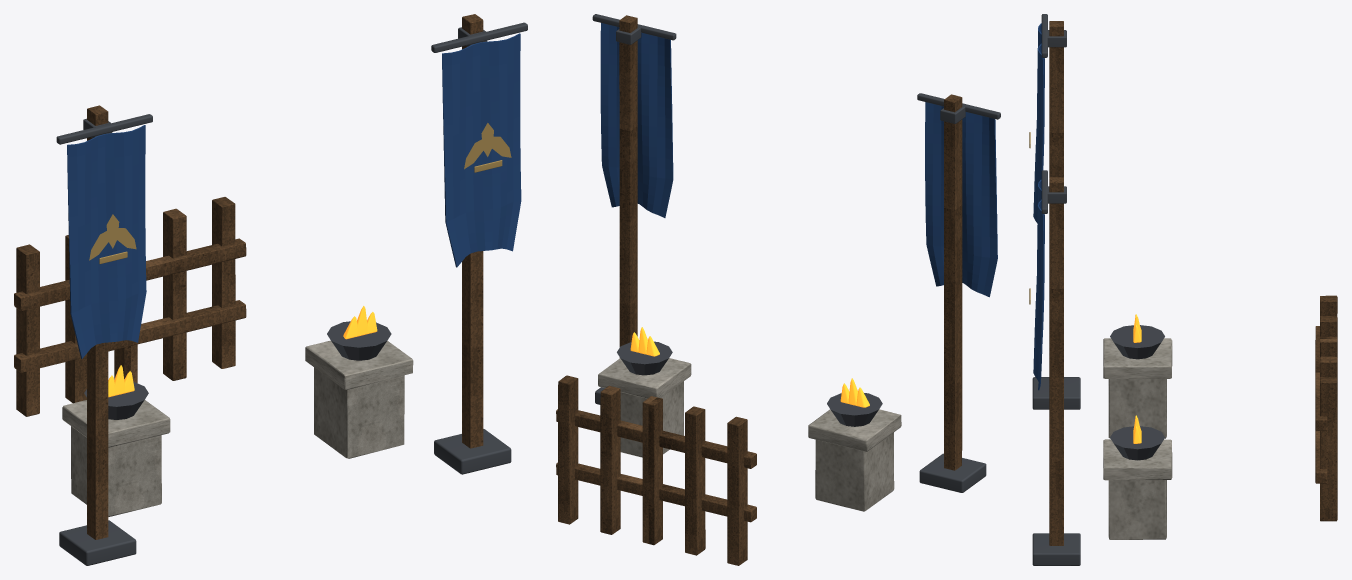
The model's file is defensive_props-LOD2.glb.
3 views of the same model, side by side, from view 1: azimuth 30°, elevation 25°; view 2: azimuth 150°, elevation 25°; view 3: azimuth 270°, elevation 25° (orthographic). The views are drawn at different scales.
Visible parts, largest first — view 1: V3 complete props / Royal blue Valoria banner.001, Banner freestanding oak mount, V3 complete props / Torch pedestal.001, V3 complete props / Iron brazier bowl.001, V3 complete props / Torch stone cap.001, V3 complete props / Valoria lily embroidery.005, V3 complete props / Carved ember flame.005; view 2: Banner freestanding oak mount, V3 complete props / Royal blue Valoria banner.001, V3 complete props / Torch pedestal.001, V3 complete props / Iron brazier bowl.001, V3 complete props / Torch stone cap.001, V3 complete props / Carved ember flame.005; view 3: Banner freestanding oak mount, V3 complete props / Torch pedestal.001, V3 complete props / Iron brazier bowl.001, V3 complete props / Torch stone cap.001, V3 complete props / Royal blue Valoria banner.001, V3 complete props / Carved ember flame.005.
Part boxes in pixels (x1,y1,x2,y2): V3 complete props / Royal blue Valoria banner.001: (67, 33, 521, 358); Banner freestanding oak mount: (14, 14, 483, 539); V3 complete props / Torch pedestal.001: (71, 367, 404, 516); V3 complete props / Iron brazier bowl.001: (56, 22, 527, 565); V3 complete props / Torch stone cap.001: (62, 340, 413, 447); V3 complete props / Valoria lily embroidery.005: (89, 123, 511, 264); V3 complete props / Carved ember flame.005: (108, 306, 377, 397); Banner freestanding oak mount: (556, 15, 962, 565); V3 complete props / Royal blue Valoria banner.001: (600, 23, 997, 297); V3 complete props / Torch pedestal.001: (620, 381, 894, 511); V3 complete props / Iron brazier bowl.001: (592, 14, 1000, 492); V3 complete props / Torch stone cap.001: (598, 358, 901, 451); V3 complete props / Carved ember flame.005: (630, 327, 869, 407); Banner freestanding oak mount: (1049, 21, 1337, 545); V3 complete props / Torch pedestal.001: (1108, 379, 1166, 539); V3 complete props / Iron brazier bowl.001: (1032, 14, 1164, 565); V3 complete props / Torch stone cap.001: (1103, 338, 1172, 480); V3 complete props / Royal blue Valoria banner.001: (1033, 23, 1044, 390); V3 complete props / Carved ember flame.005: (1133, 314, 1141, 443).
Size of the model in its own units: 5.18 by 4.65 by 3.45.
Materials: 7 (3 with a texture image).
